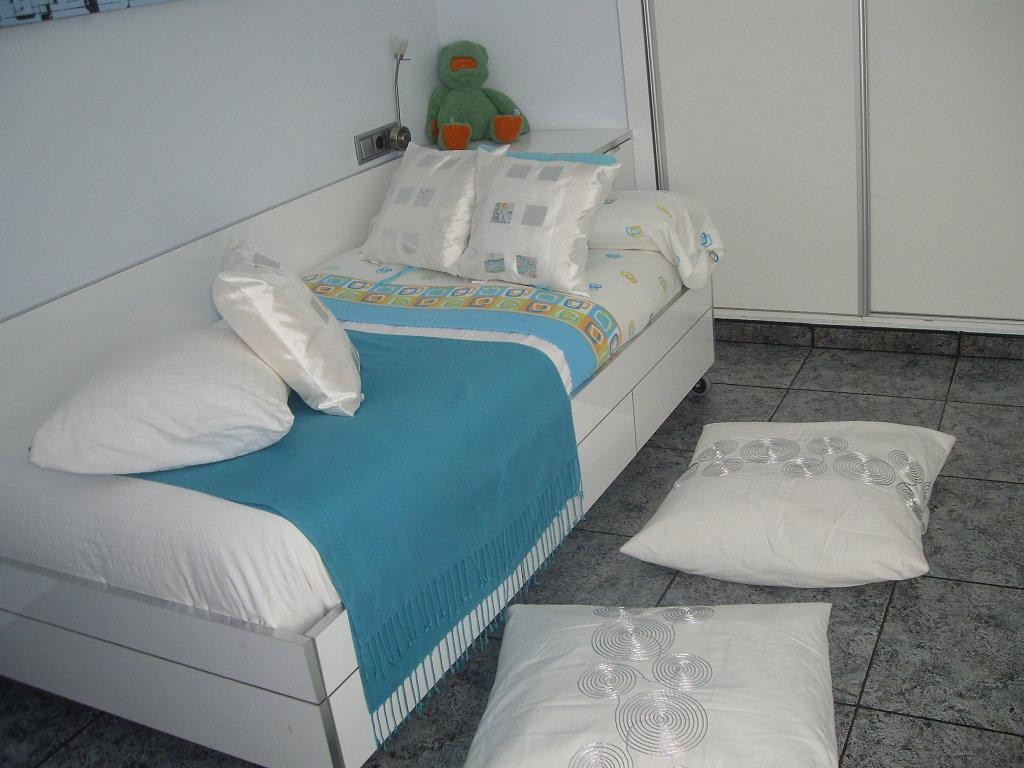bed: (0, 98, 678, 605)
